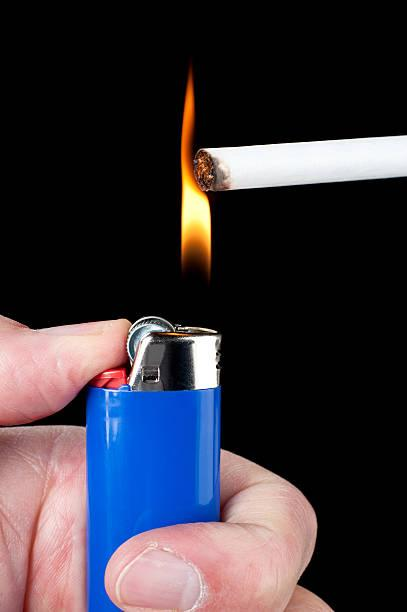Fire: (165, 74, 210, 311)
